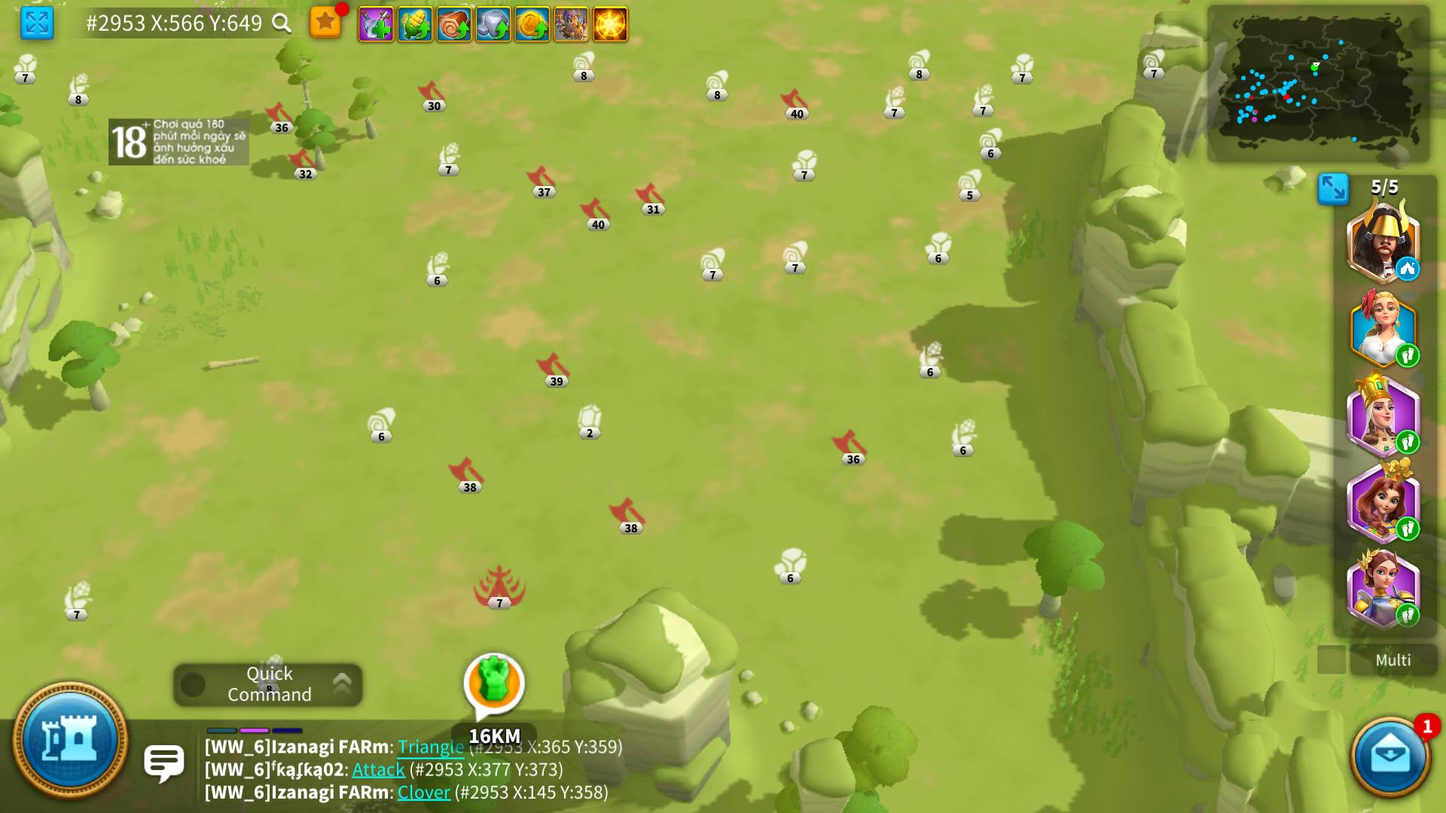gem-z-out: (577, 403, 602, 441)
